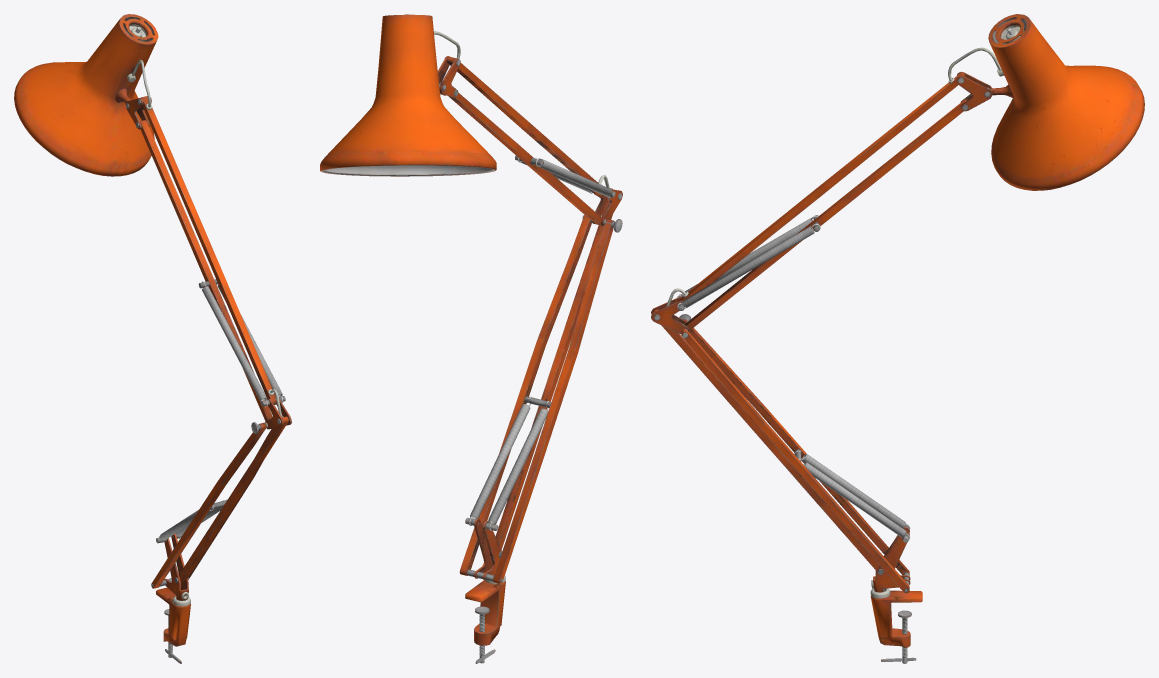
The model's file is desk_lamp_arm_01.glb.
The picture shows the model from 3 angles, left to right: view 1: azimuth 30°, elevation 25°; view 2: azimuth 150°, elevation 25°; view 3: azimuth 270°, elevation 25°; orthographic projection. The views are drawn at different scales.
Parts seen in each view (by area): view 1: desk_lamp_arm_01; view 2: desk_lamp_arm_01; view 3: desk_lamp_arm_01.
Part boxes in pixels (x1,y1,x2,y2): desk_lamp_arm_01: [14, 14, 291, 663]; desk_lamp_arm_01: [320, 14, 622, 663]; desk_lamp_arm_01: [651, 14, 1144, 663].
Size of the model in its own units: 0.2017 by 0.8926 by 0.6139.
Materials: 2 (2 with a texture image).
